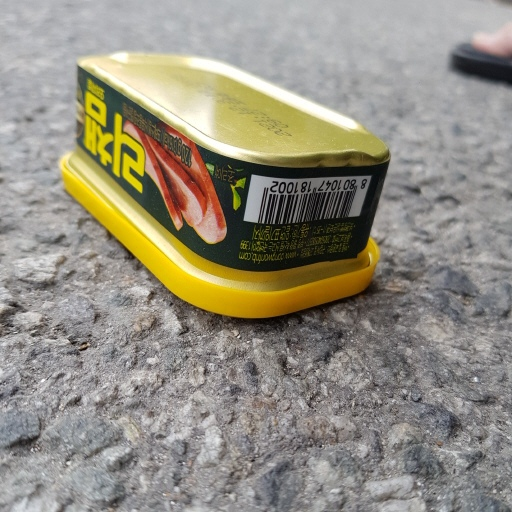Metal_2: (59, 47, 391, 319)
